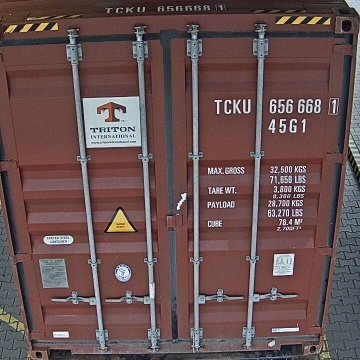serial_id: (214, 98, 338, 113)
